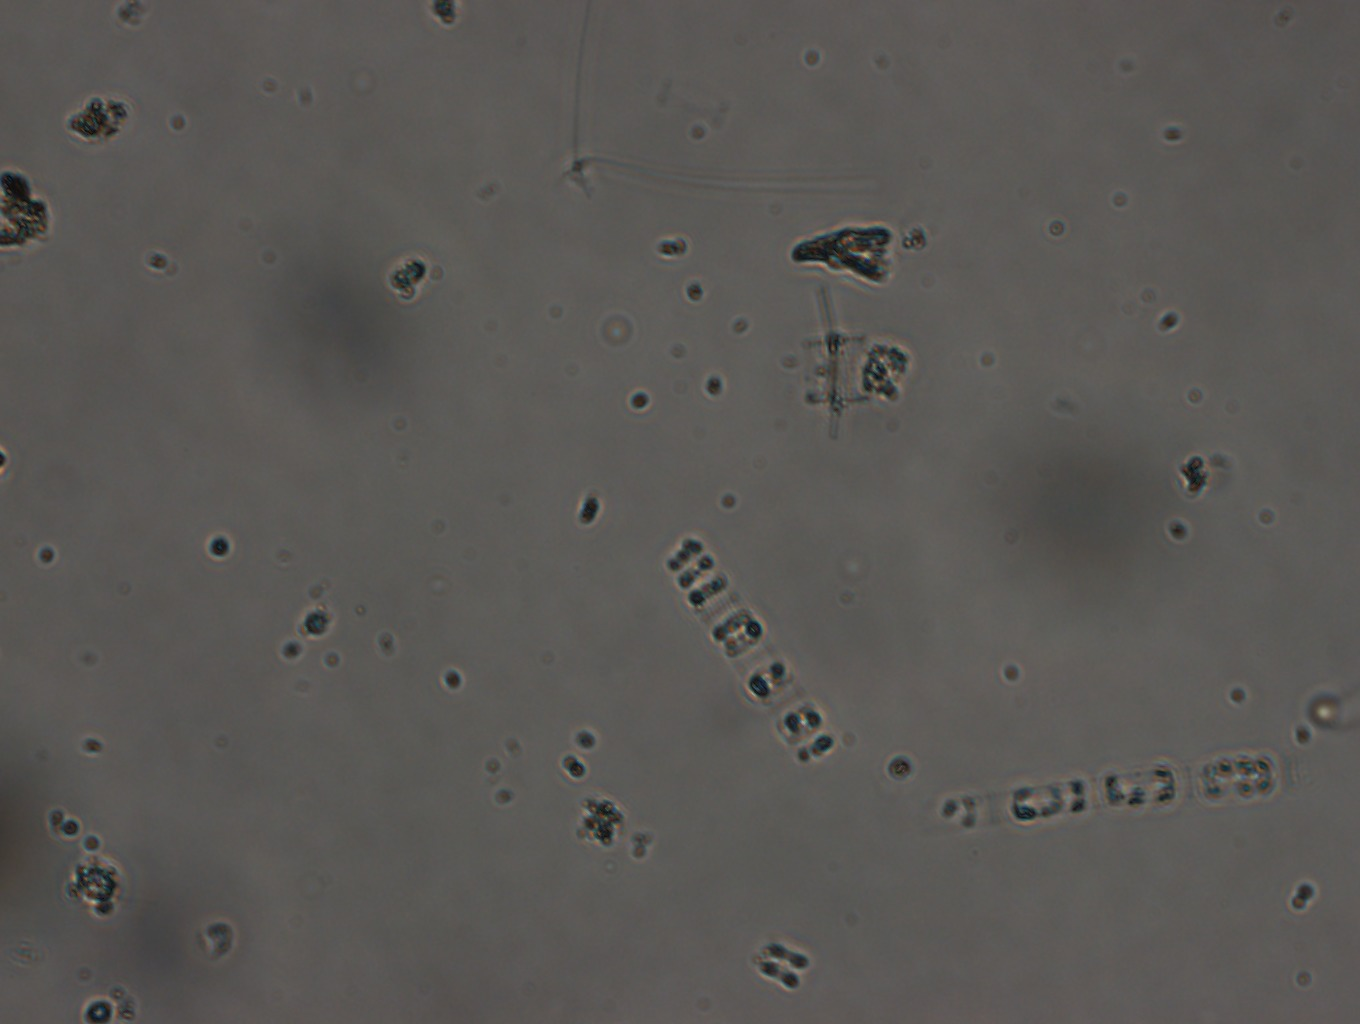skeletonema: (664, 523, 846, 781), (932, 746, 1291, 839)
